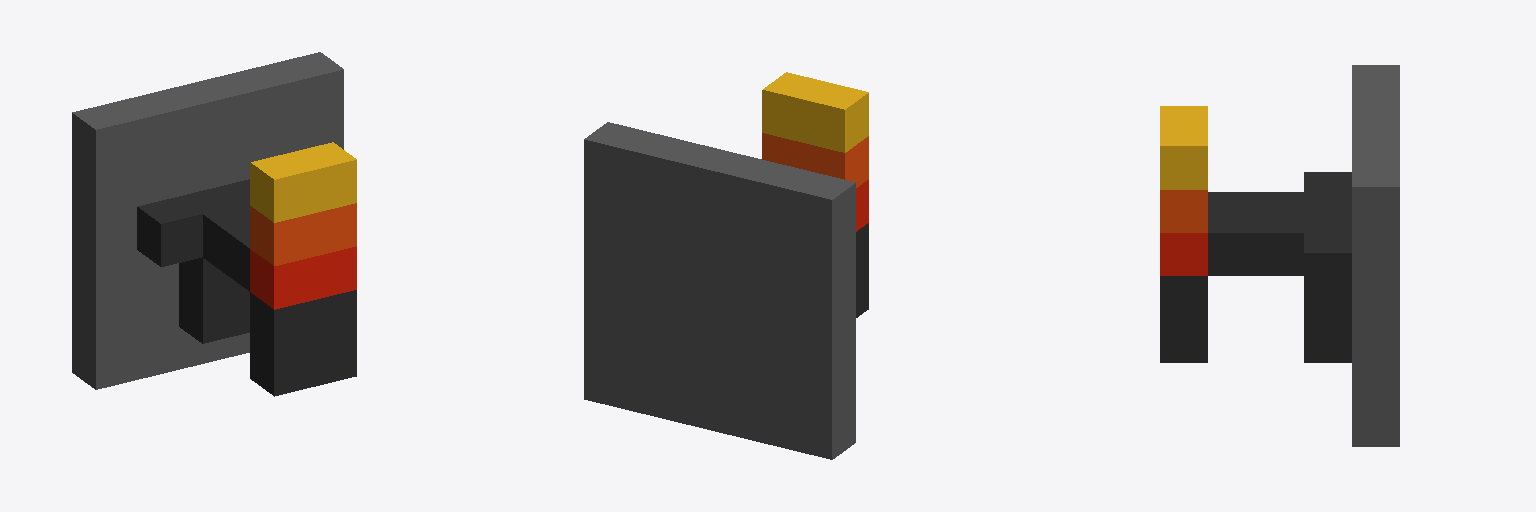
3 views of the same model, side by side, from view 1: azimuth 30°, elevation 25°; view 2: azimuth 150°, elevation 25°; view 3: azimuth 270°, elevation 25° (orthographic).
Parts seen in each view (by area): view 1: object 1; view 2: object 1; view 3: object 1.
Boxes of the visible parts, <box> form: object 1: <box>72,52,356,396</box>; object 1: <box>584,72,868,459</box>; object 1: <box>1160,65,1399,446</box>.
Size of the model in its own units: 0.6 by 0.6 by 0.5.
1 materials, 1 textured.